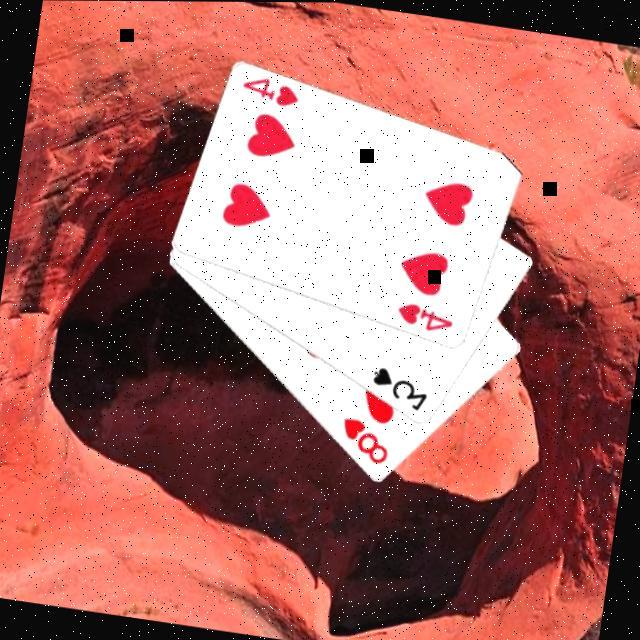3S: (367, 361, 435, 413)
4H: (238, 70, 304, 110), (394, 296, 459, 336)
8H: (335, 412, 397, 466)
